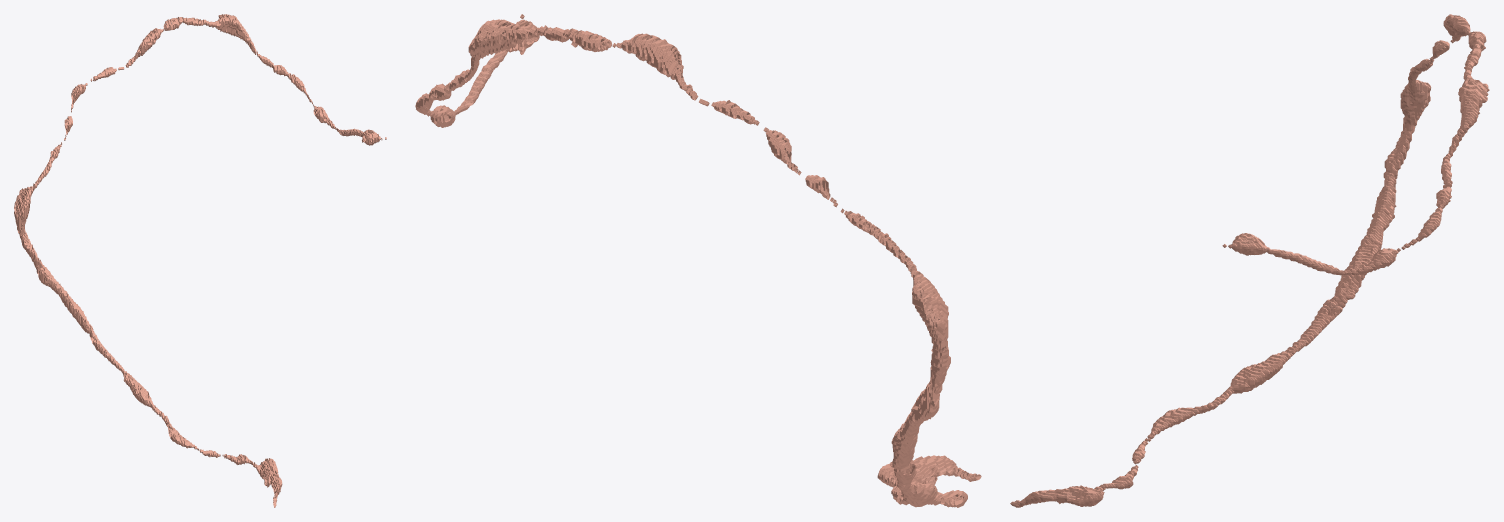
The model's file is SVV_AINR.gltf.
3 views of the same model, side by side, from view 1: azimuth 30°, elevation 25°; view 2: azimuth 150°, elevation 25°; view 3: azimuth 270°, elevation 25° (orthographic). The views are drawn at different scales.
Visible parts, largest first — view 1: AINR; view 2: AINR; view 3: AINR.
Boxes of the visible parts, left/top/right/bottom form: AINR: left=14, top=14, right=386, bottom=507; AINR: left=415, top=14, right=981, bottom=507; AINR: left=1010, top=14, right=1489, bottom=507.
Bounding box in the file's own units: 148064 × 164900 × 139766.
